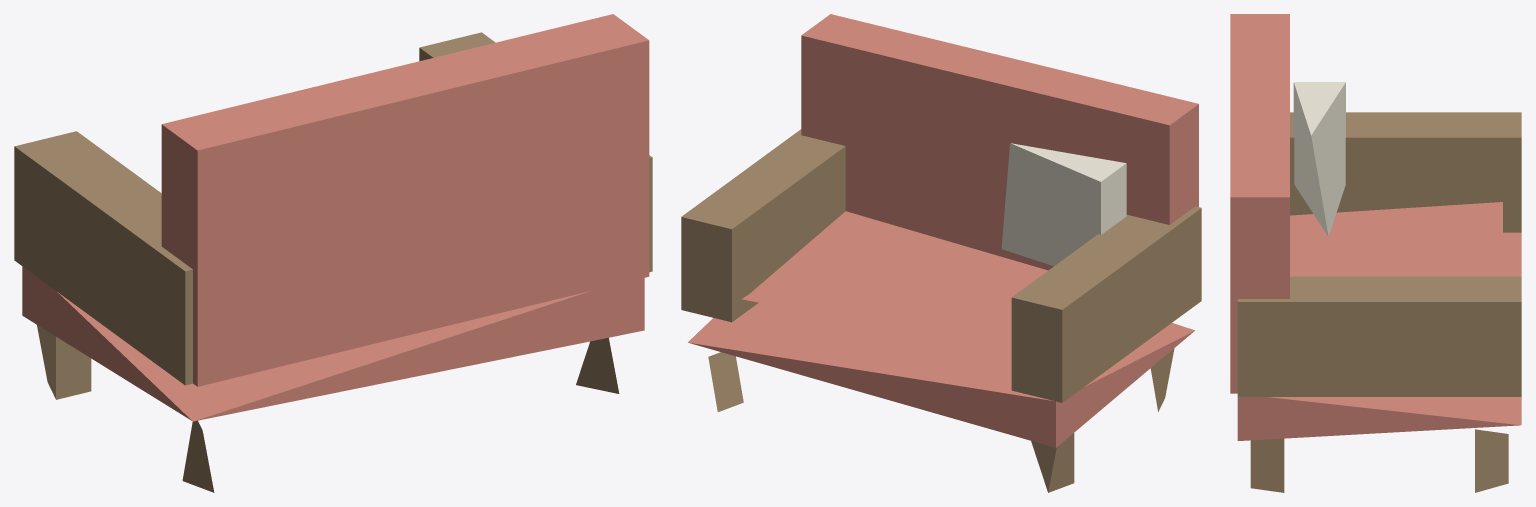
The model's file is 18-Casas_sillon.glb.
3 views of the same model, side by side, from view 1: azimuth 30°, elevation 25°; view 2: azimuth 150°, elevation 25°; view 3: azimuth 270°, elevation 25° (orthographic). The views are drawn at different scales.
Visible parts, largest first — view 1: SM_Sillon_M_Mueble_Tela_Roja, SM_Sillon_M_Mueble_Madera_Oscura; view 2: SM_Sillon_M_Mueble_Tela_Roja, SM_Sillon_M_Mueble_Madera_Oscura, SM_Sillon_M_Mueble_Tela_Crema; view 3: SM_Sillon_M_Mueble_Madera_Oscura, SM_Sillon_M_Mueble_Tela_Roja, SM_Sillon_M_Mueble_Tela_Crema.
Boxes of the visible parts, <box> form: SM_Sillon_M_Mueble_Tela_Roja: <box>22,14,649,421</box>; SM_Sillon_M_Mueble_Madera_Oscura: <box>14,32,652,492</box>; SM_Sillon_M_Mueble_Tela_Roja: <box>688,14,1198,447</box>; SM_Sillon_M_Mueble_Madera_Oscura: <box>681,129,1201,492</box>; SM_Sillon_M_Mueble_Tela_Crema: <box>1001,143,1126,266</box>; SM_Sillon_M_Mueble_Madera_Oscura: <box>1237,112,1521,492</box>; SM_Sillon_M_Mueble_Tela_Roja: <box>1230,14,1521,440</box>; SM_Sillon_M_Mueble_Tela_Crema: <box>1293,82,1345,236</box>.
Bounding box in the file's own units: 1.2 × 0.88 × 0.78.
